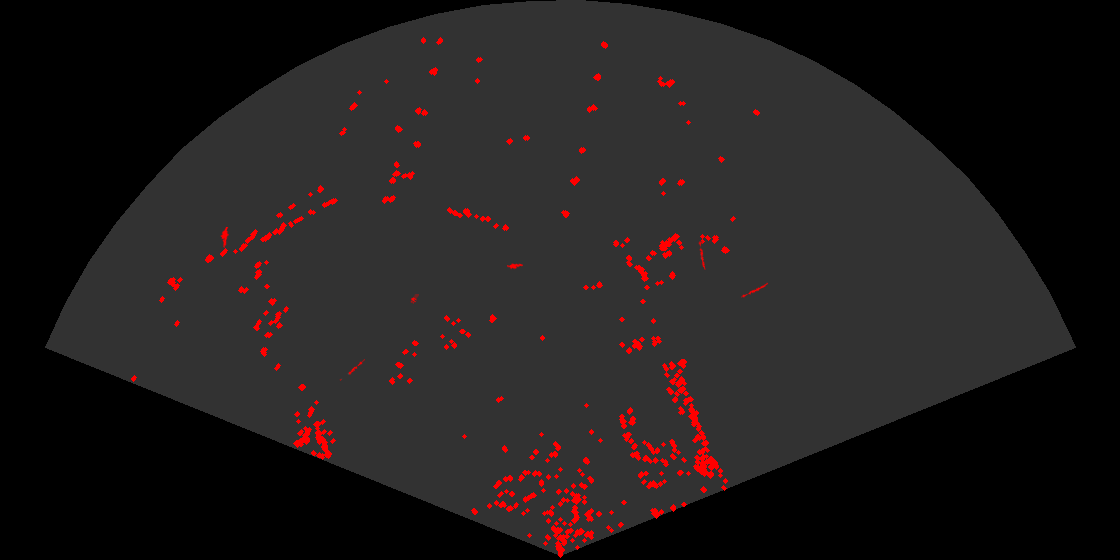ball: (409, 294, 419, 305)
chain: (338, 359, 365, 382), (741, 281, 770, 299), (697, 241, 706, 271)
frogman: (219, 227, 230, 248), (507, 262, 523, 271)
